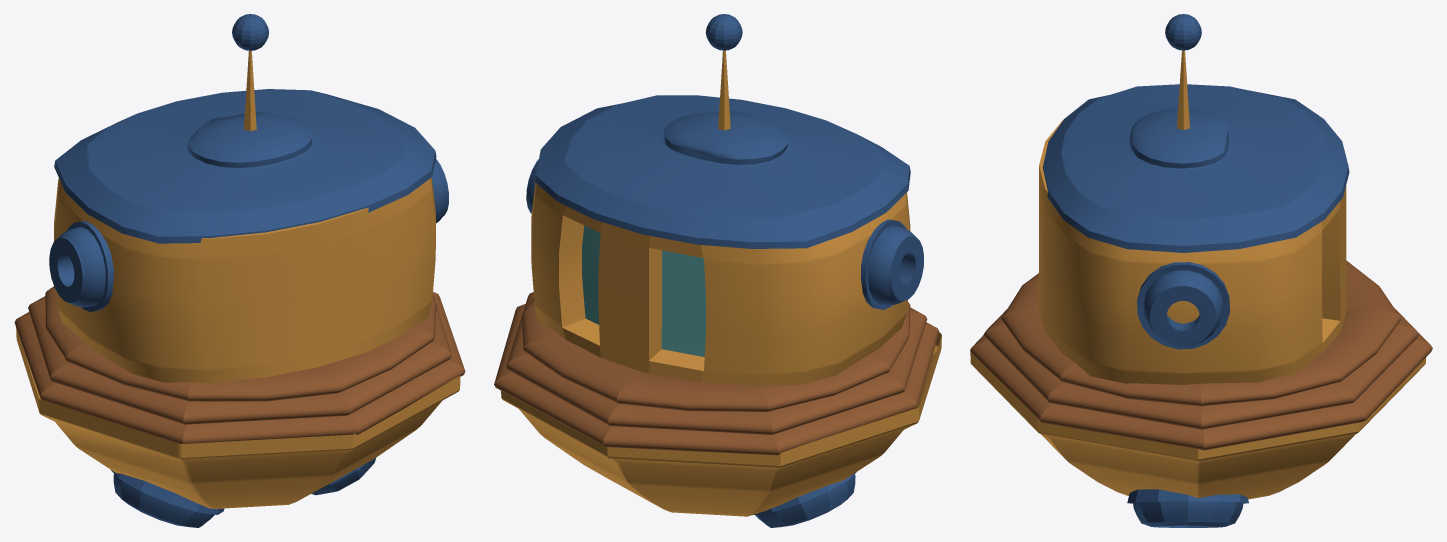
The model's file is Anim_nave_robot.fbx.
3 views of the same model, side by side, from view 1: azimuth 30°, elevation 25°; view 2: azimuth 150°, elevation 25°; view 3: azimuth 270°, elevation 25° (orthographic).
Visible parts, largest first — view 1: polySurface10; view 2: polySurface10; view 3: polySurface10.
Boxes of the visible parts, x1=… form: polySurface10: x1=14, y1=14, x2=465, y2=527; polySurface10: x1=494, y1=14, x2=941, y2=527; polySurface10: x1=970, y1=14, x2=1432, y2=527.
Bounding box in the file's own units: 2.1 × 2.44 × 2.1.
